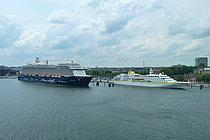Ship: (15, 57, 96, 92), (108, 66, 196, 94)
